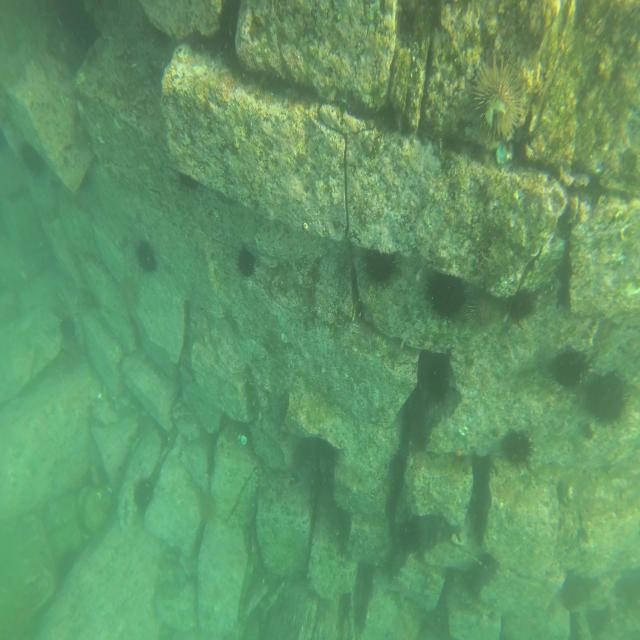echinus: (470, 55, 524, 145), (580, 364, 630, 430), (422, 268, 467, 326), (545, 342, 592, 391), (362, 247, 400, 292), (499, 424, 534, 468), (466, 292, 497, 339), (396, 513, 424, 559), (507, 285, 539, 325), (426, 353, 450, 405), (19, 138, 42, 180), (133, 473, 155, 516), (134, 238, 157, 274), (178, 166, 201, 197), (236, 247, 256, 279), (58, 309, 76, 344)
